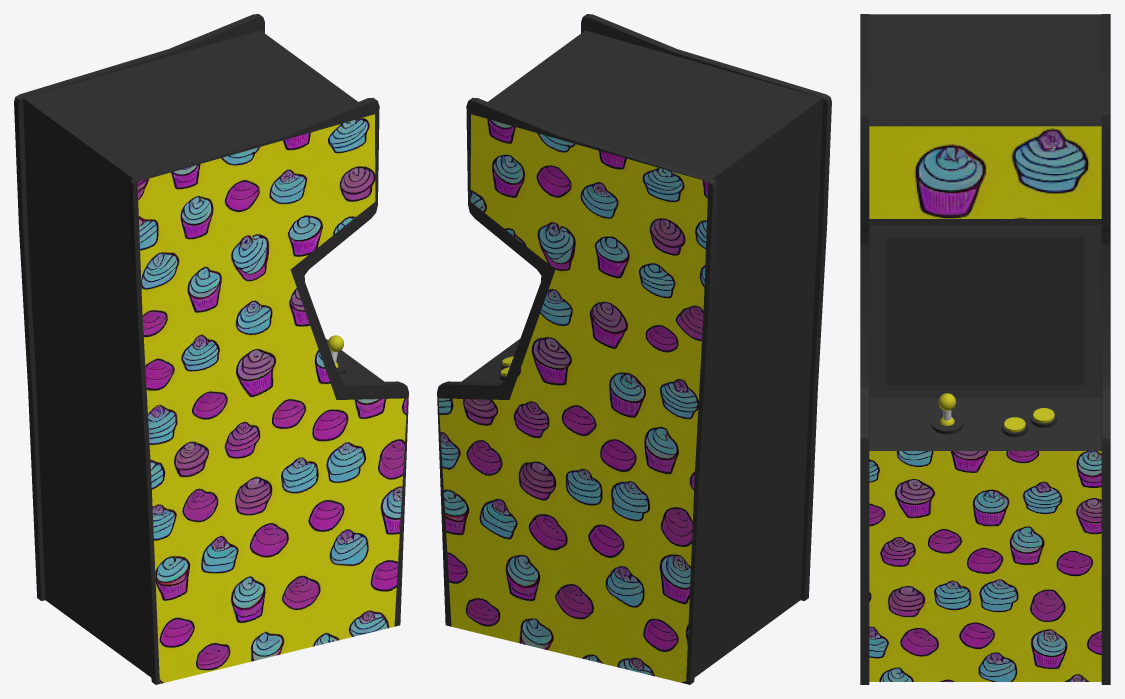
Rendered from ArcadeMachineCupcake.glb.
3 renders of one model, left to right at view 1: azimuth 30°, elevation 25°; view 2: azimuth 150°, elevation 25°; view 3: azimuth 270°, elevation 25°, orthographic. The views are drawn at different scales.
Visible parts, largest first — view 1: ArcadeMachine; view 2: ArcadeMachine; view 3: ArcadeMachine, UnderJoystick.
Boxes of the visible parts, <box> form: ArcadeMachine: <box>14,14,408,684</box>; ArcadeMachine: <box>437,14,831,684</box>; ArcadeMachine: <box>860,14,1110,684</box>; UnderJoystick: <box>931,412,963,434</box>.
Bounding box in the file's own units: 3.49 × 6.42 × 2.6.
Materials: 5 (1 with a texture image).
